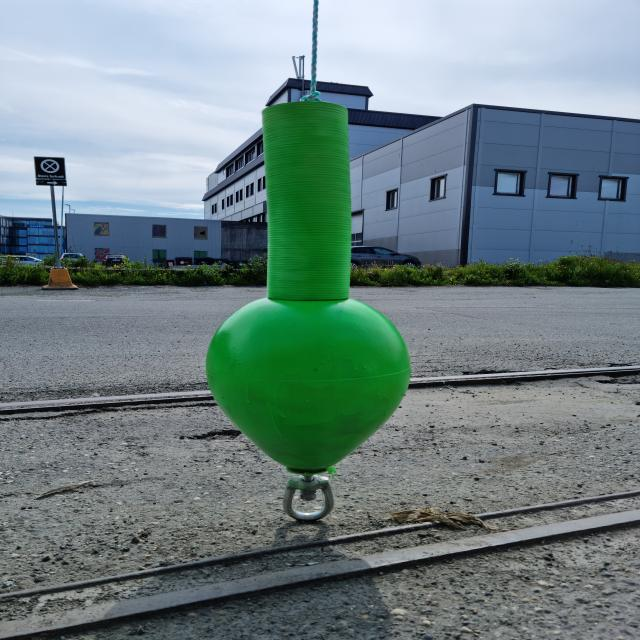green: (204, 100, 412, 471)
